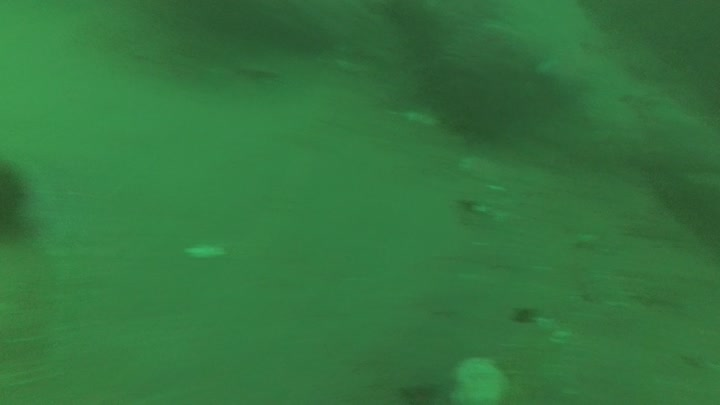echinus: (2, 159, 32, 246)
scallop: (452, 355, 511, 405)
starfish: (397, 377, 444, 405), (619, 86, 668, 111)
